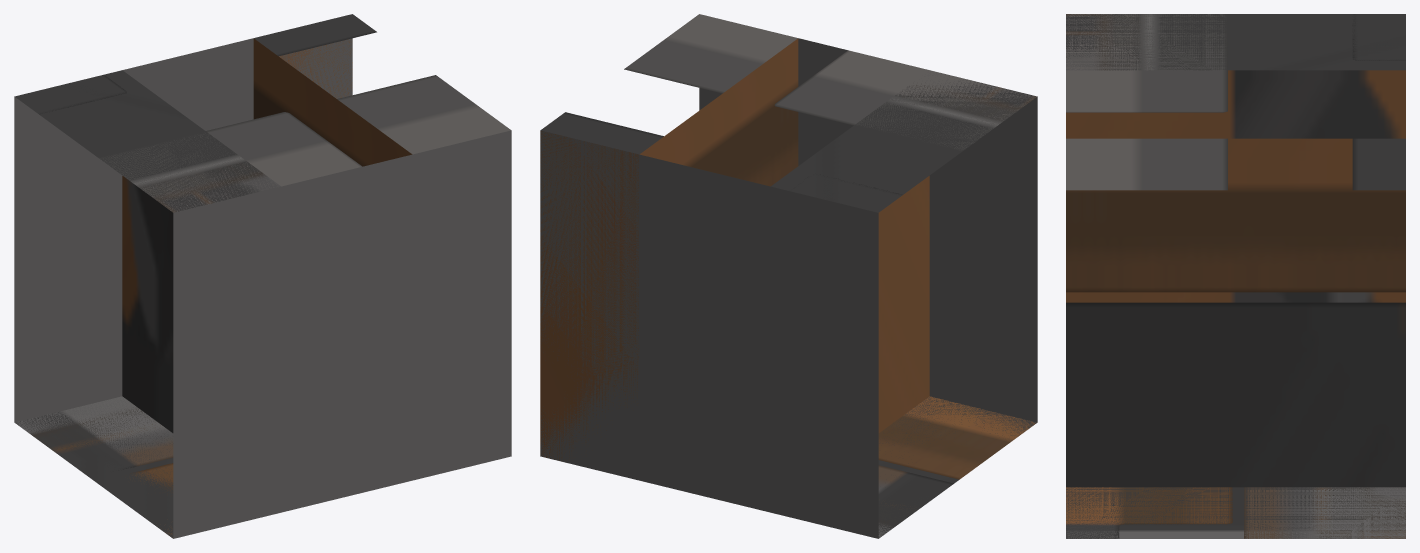
Rendered from section-15.obj.
3 views of the same model, side by side, from view 1: azimuth 30°, elevation 25°; view 2: azimuth 150°, elevation 25°; view 3: azimuth 270°, elevation 25° (orthographic). The views are drawn at different scales.
Bounding box in the file's own units: 1 × 0.9215 × 0.8142.
